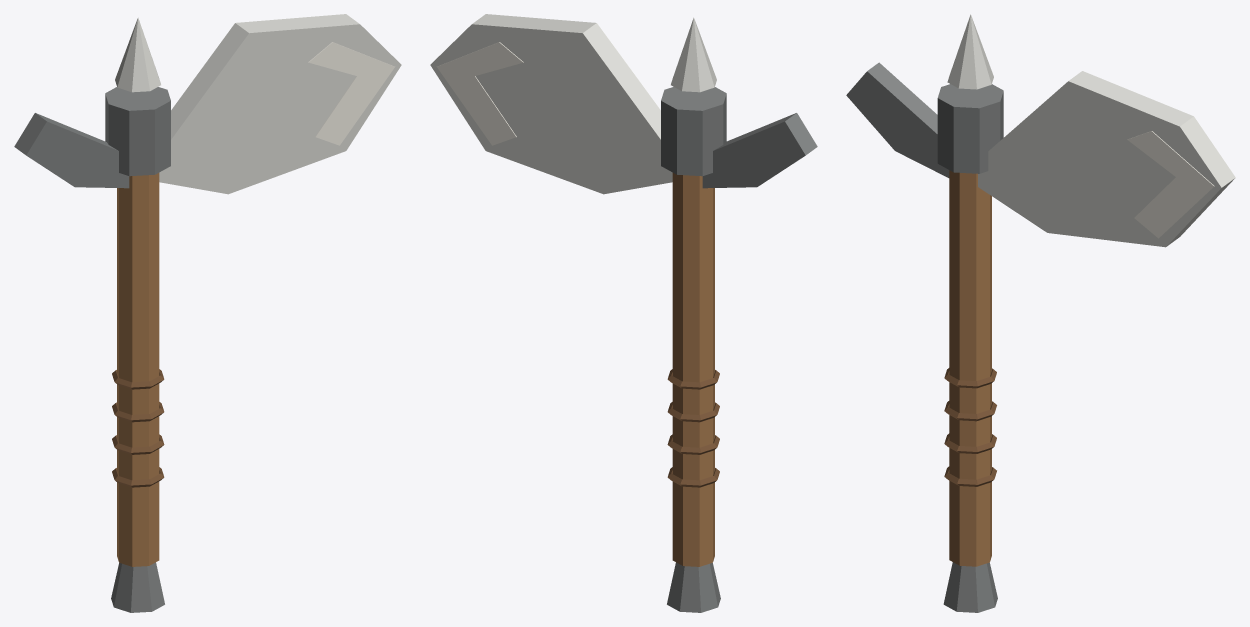
The model's file is t1_axe.glb.
3 renders of one model, left to right at view 1: azimuth 30°, elevation 25°; view 2: azimuth 150°, elevation 25°; view 3: azimuth 330°, elevation 25°, orthographic.
Visible parts, largest first — view 1: RightBlade, WoodHandle, TopSocket, BackSpike, RightBladeEdge, BottomPommel, TopSpike; view 2: RightBlade, WoodHandle, TopSocket, BackSpike, RightBladeEdge, BottomPommel, TopSpike; view 3: RightBlade, WoodHandle, BackSpike, TopSocket, RightBladeEdge, BottomPommel, TopSpike.
Boxes of the visible parts, bbox=[...] form: RightBlade: bbox=[159, 14, 401, 194]; WoodHandle: bbox=[117, 173, 159, 566]; TopSocket: bbox=[105, 87, 170, 176]; BackSpike: bbox=[14, 113, 129, 188]; RightBladeEdge: bbox=[308, 42, 394, 145]; BottomPommel: bbox=[111, 562, 164, 612]; TopSpike: bbox=[115, 17, 160, 92]; RightBlade: bbox=[430, 14, 672, 194]; WoodHandle: bbox=[672, 173, 714, 566]; TopSocket: bbox=[661, 87, 726, 176]; BackSpike: bbox=[702, 113, 817, 188]; RightBladeEdge: bbox=[437, 42, 523, 145]; BottomPommel: bbox=[667, 562, 720, 612]; TopSpike: bbox=[671, 17, 716, 92]; RightBlade: bbox=[978, 71, 1235, 247]; WoodHandle: bbox=[949, 170, 991, 566]; BackSpike: bbox=[846, 62, 949, 177]; TopSocket: bbox=[937, 84, 1003, 173]; RightBladeEdge: bbox=[1127, 131, 1214, 238]; BottomPommel: bbox=[943, 562, 997, 612]; TopSpike: bbox=[947, 14, 993, 89].
Size of the model in its own units: 1.08 by 1.61 by 0.17.
